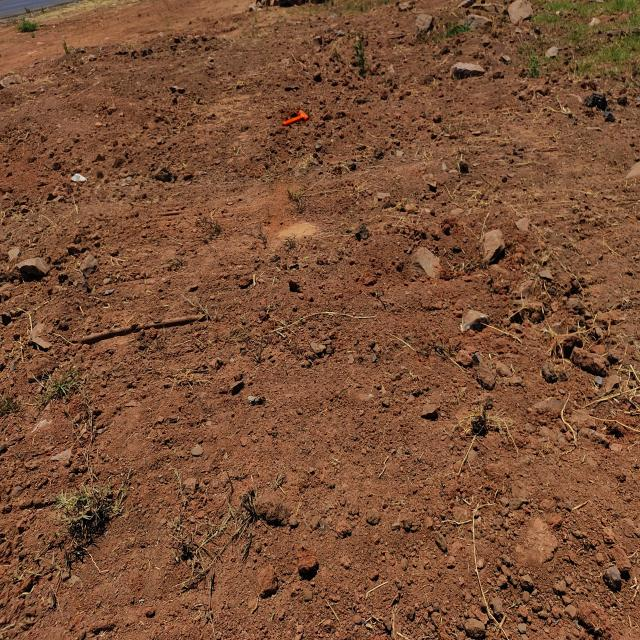Orange_hammer: (281, 109, 309, 126)
